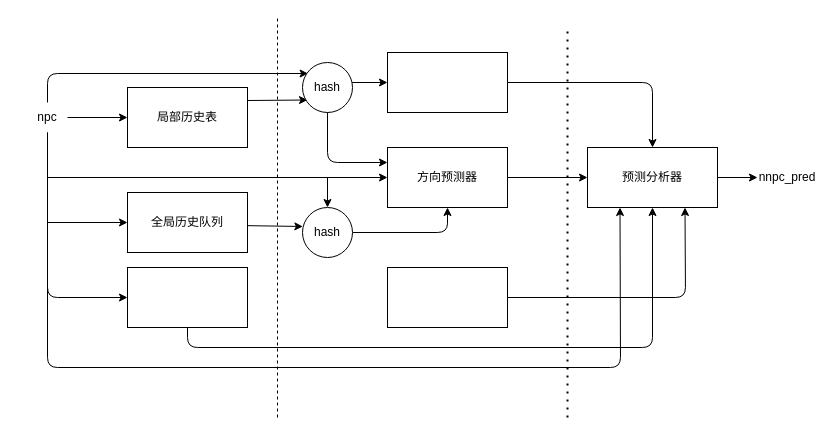
Some shapes in this 834 by 437 pixel diagram are drawn without their labels. Each missing label, with the box of its shape:
地址预测器btb: (386, 52, 508, 112)
类别记录表: (126, 266, 248, 328)
返回栈ras: (386, 266, 508, 328)
